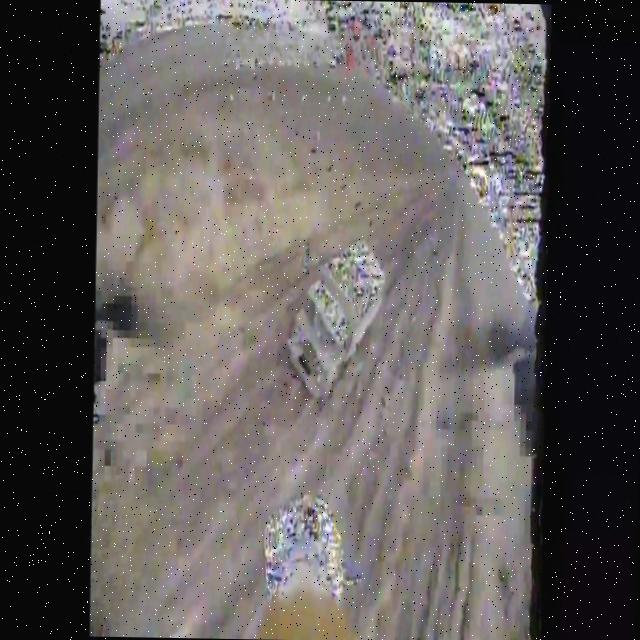Vehicle: (286, 238, 388, 399)
